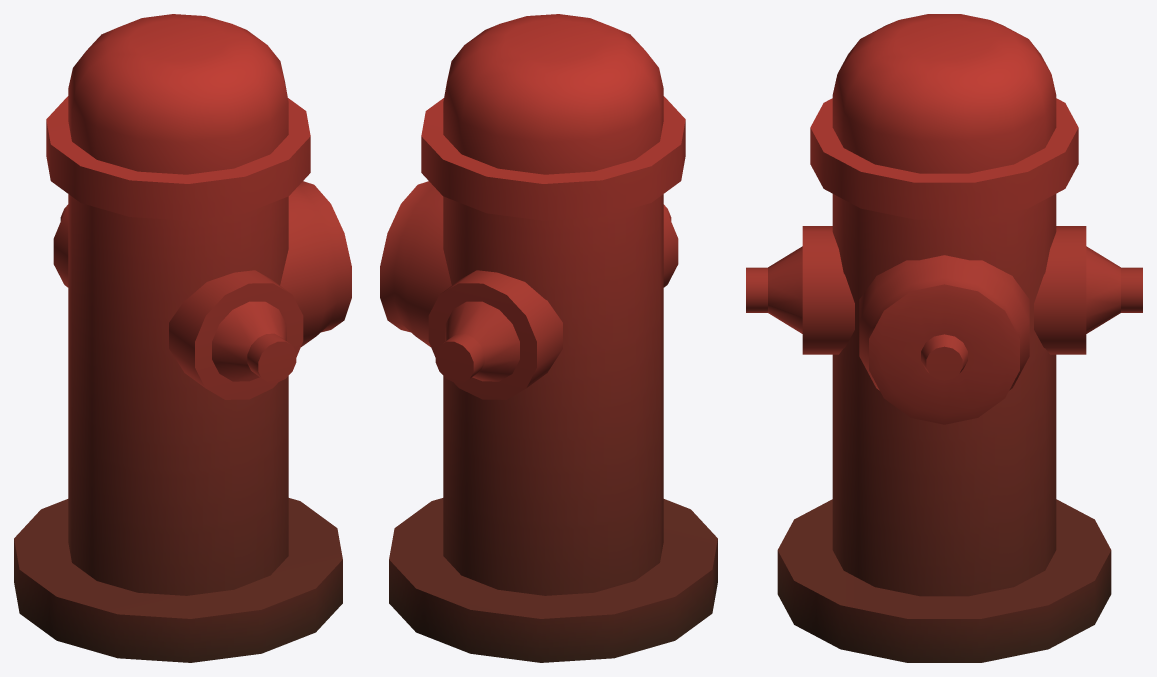
File: Fire_Hydrant.glb
3 renders of one model, left to right at view 1: azimuth 30°, elevation 25°; view 2: azimuth 150°, elevation 25°; view 3: azimuth 270°, elevation 25°, orthographic.
Parts seen in each view (by area): view 1: fire_hydrant; view 2: fire_hydrant; view 3: fire_hydrant.
Boxes of the visible parts, <box> form: fire_hydrant: <box>14,14,351,662</box>; fire_hydrant: <box>380,14,717,662</box>; fire_hydrant: <box>746,14,1142,662</box>.
Size of the model in its own units: 0.4468 by 0.8 by 0.5191.
1 material, 1 textured.
